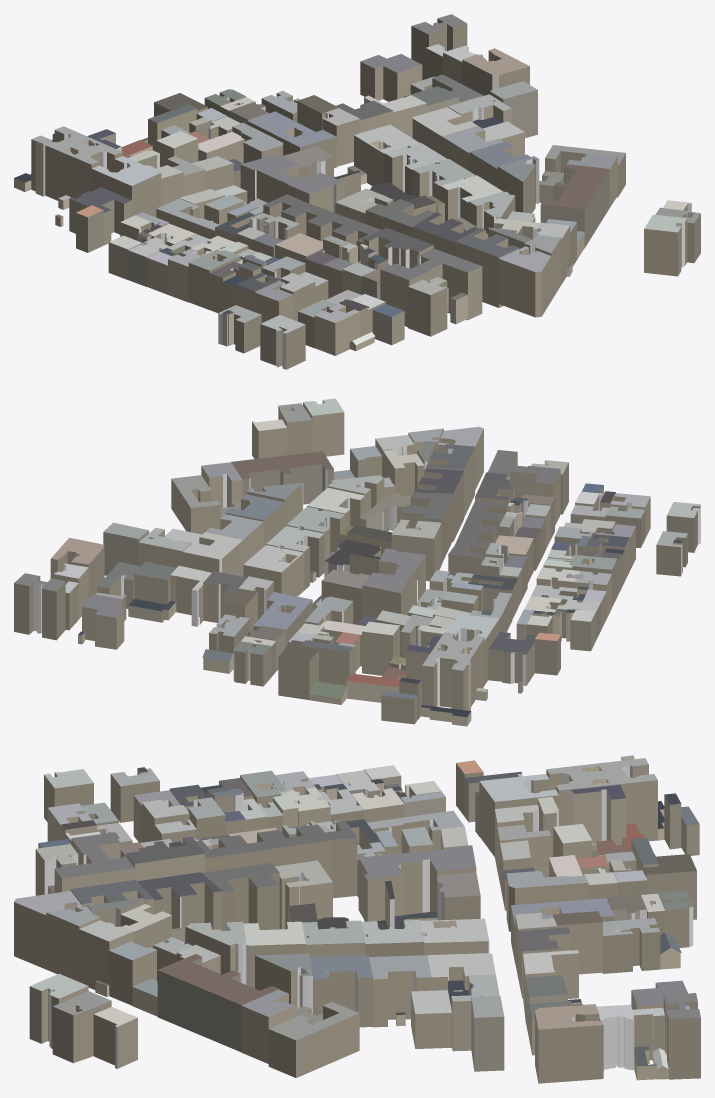
The picture shows the model from 3 angles, top to bottom: view 1: azimuth 30°, elevation 25°; view 2: azimuth 150°, elevation 25°; view 3: azimuth 270°, elevation 25°; orthographic projection. The views are drawn at different scales.
Parts seen in each view (by area): view 1: tuile; view 2: tuile; view 3: tuile.
Part boxes in pixels (x1,y1,x2,y2): tuile: (14,14,700,369); tuile: (14,398,700,726); tuile: (14,755,700,1083).
Size of the model in its own units: 259 by 28.98 by 268.
